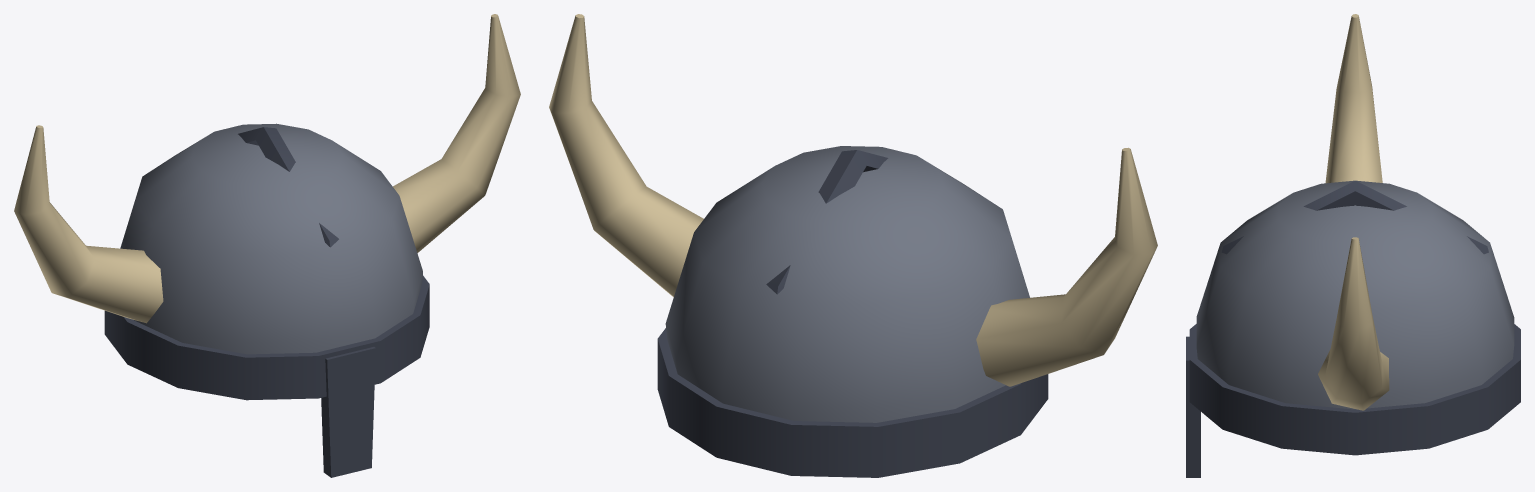
File: viking-helmet-pixor.glb
The picture shows the model from 3 angles, left to right: view 1: azimuth 30°, elevation 25°; view 2: azimuth 150°, elevation 25°; view 3: azimuth 270°, elevation 25°; orthographic projection. The views are drawn at different scales.
Visible parts, largest first — view 1: Helmet dome, Helmet horns, Helmet bands, Helmet nose guard; view 2: Helmet dome, Helmet horns, Helmet bands; view 3: Helmet dome, Helmet bands, Helmet horns, Helmet nose guard.
Part boxes in pixels (left/top/right/bottom): Helmet dome: left=120, top=123, right=422, bottom=354; Helmet horns: left=14, top=14, right=520, bottom=323; Helmet bands: left=104, top=127, right=429, bottom=400; Helmet nose guard: left=321, top=347, right=375, bottom=477; Helmet dome: left=665, top=146, right=1029, bottom=422; Helmet horns: left=549, top=14, right=1157, bottom=386; Helmet bands: left=657, top=150, right=1048, bottom=477; Helmet dome: left=1196, top=180, right=1514, bottom=409; Helmet bands: left=1189, top=180, right=1520, bottom=455; Helmet horns: left=1318, top=14, right=1389, bottom=410; Helmet nose guard: left=1186, top=336, right=1200, bottom=477.
Bounding box in the file's own units: 0.6181 × 0.4004 × 0.3561.
